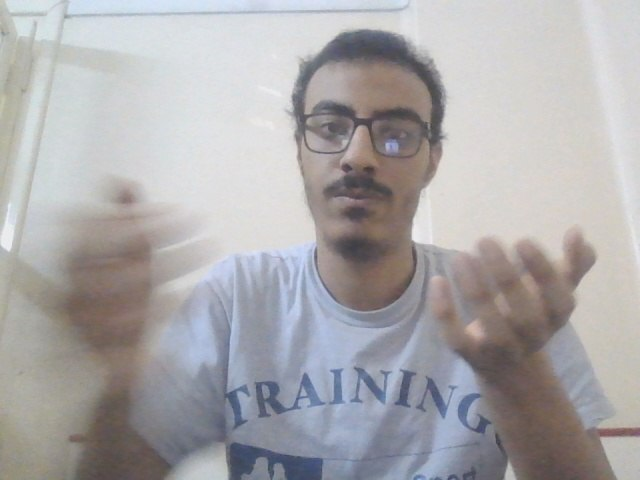What: (39, 173, 604, 414)
